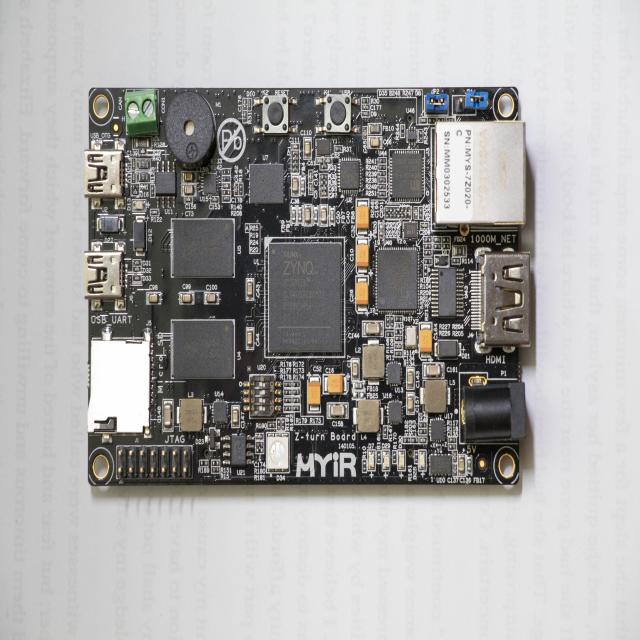Button: (316, 95, 360, 134), (254, 96, 298, 133)
Capacitor: (362, 320, 384, 338), (162, 399, 174, 432), (422, 362, 444, 378), (326, 403, 348, 419), (303, 137, 312, 160), (246, 326, 254, 351), (291, 174, 300, 196), (406, 392, 415, 414), (181, 182, 196, 195), (204, 292, 219, 305), (179, 292, 195, 304), (181, 171, 196, 183), (146, 292, 161, 304), (304, 205, 312, 227), (320, 205, 328, 227), (246, 278, 254, 300), (351, 359, 359, 381), (406, 368, 414, 390), (232, 406, 240, 428), (458, 454, 466, 476), (369, 137, 382, 149), (308, 169, 314, 182), (308, 182, 314, 195), (452, 450, 458, 463), (452, 463, 458, 476), (242, 98, 248, 111), (210, 196, 219, 204), (407, 206, 412, 219), (222, 182, 230, 190), (420, 222, 429, 229), (394, 343, 403, 350), (255, 433, 264, 440), (315, 157, 324, 164), (234, 182, 238, 196), (419, 437, 427, 444), (320, 186, 329, 192), (184, 197, 193, 203), (361, 104, 370, 110), (414, 207, 418, 220), (320, 191, 328, 197), (363, 127, 367, 139), (139, 149, 147, 155), (324, 158, 332, 164), (404, 206, 407, 219)
Clock: (402, 221, 418, 240), (405, 326, 417, 349), (316, 138, 330, 156)
Connector: (431, 121, 526, 232), (86, 330, 152, 438), (474, 247, 531, 354), (459, 373, 527, 444), (84, 138, 127, 209), (116, 464, 194, 499), (125, 88, 159, 135), (451, 94, 465, 116)
Diode: (83, 243, 128, 314), (434, 340, 462, 360), (96, 216, 124, 233), (134, 220, 146, 252), (204, 428, 220, 450), (434, 255, 449, 268), (132, 274, 142, 283), (419, 117, 428, 125), (131, 158, 136, 171), (131, 170, 136, 183), (247, 98, 252, 111), (362, 111, 371, 118), (132, 267, 142, 273), (133, 259, 141, 266), (131, 190, 140, 196), (447, 117, 455, 122)
Electrolytic Capacitor: (355, 275, 369, 314), (356, 237, 370, 274), (356, 200, 369, 238), (419, 323, 432, 360), (324, 374, 348, 394), (308, 376, 320, 414)
Ferrite Bead: (368, 123, 382, 135), (452, 246, 467, 256), (329, 206, 335, 227), (300, 176, 306, 196), (312, 206, 318, 226), (466, 455, 472, 475), (297, 205, 303, 224), (290, 206, 296, 225), (378, 220, 384, 239), (352, 381, 364, 390)
IC: (264, 236, 346, 357), (170, 319, 236, 381), (171, 218, 235, 278), (376, 251, 421, 316), (389, 149, 425, 202), (432, 268, 464, 317), (248, 164, 284, 203), (223, 434, 254, 466), (156, 161, 176, 208), (338, 157, 362, 194), (429, 454, 452, 476), (212, 400, 228, 424), (201, 173, 218, 195), (430, 419, 445, 441), (387, 363, 401, 385), (388, 402, 402, 423), (407, 129, 417, 143)
Inductor: (354, 399, 384, 432), (362, 340, 384, 384), (178, 398, 204, 432), (423, 380, 447, 412)
Jumper: (464, 91, 489, 115), (424, 94, 449, 115)
Led: (266, 432, 290, 473), (368, 449, 376, 471), (382, 450, 390, 472), (398, 450, 406, 471), (418, 450, 426, 471)
Pads: (352, 391, 365, 399), (221, 168, 231, 176), (394, 328, 404, 336), (199, 459, 209, 467), (221, 189, 231, 196), (423, 265, 428, 277), (255, 448, 265, 454), (320, 180, 328, 187), (212, 460, 220, 467)
Resistor Network: (132, 136, 152, 149), (136, 158, 150, 170), (136, 171, 150, 182), (376, 450, 382, 464), (242, 110, 248, 124), (292, 404, 301, 413), (222, 175, 231, 183), (378, 190, 387, 198), (423, 236, 432, 244), (452, 256, 461, 264), (283, 397, 292, 405), (283, 404, 292, 412), (402, 436, 411, 444), (448, 436, 457, 444), (385, 206, 390, 220), (385, 315, 390, 329), (277, 417, 282, 431), (281, 418, 286, 432), (418, 428, 428, 435), (383, 425, 388, 439), (392, 450, 397, 464), (400, 124, 405, 138), (418, 129, 423, 143), (150, 185, 155, 198), (414, 451, 419, 464), (442, 236, 450, 244), (386, 330, 394, 338), (411, 436, 419, 444), (222, 196, 231, 203), (150, 209, 159, 216), (433, 243, 442, 250), (423, 243, 432, 250), (423, 258, 432, 265), (394, 316, 403, 323), (394, 350, 403, 357), (292, 397, 301, 404), (448, 444, 457, 451), (211, 467, 220, 474), (334, 146, 343, 153), (290, 162, 300, 168), (290, 168, 300, 174), (320, 173, 328, 180), (131, 183, 139, 190), (400, 206, 404, 220), (393, 206, 397, 220), (284, 381, 292, 388), (284, 389, 292, 396), (292, 389, 300, 396), (268, 422, 276, 429), (428, 117, 436, 124), (378, 171, 387, 177), (378, 177, 387, 183), (424, 250, 433, 256), (394, 336, 403, 342), (255, 442, 264, 448), (291, 156, 300, 162), (378, 158, 387, 164), (239, 183, 243, 196), (419, 206, 423, 219), (390, 315, 394, 328), (293, 381, 300, 388), (320, 164, 328, 170), (433, 236, 441, 242), (419, 422, 427, 428), (362, 98, 370, 104), (291, 150, 299, 156), (378, 165, 387, 170), (390, 206, 393, 220), (397, 206, 400, 220), (442, 244, 450, 249), (437, 118, 444, 122)
Switch: (243, 374, 280, 419)
